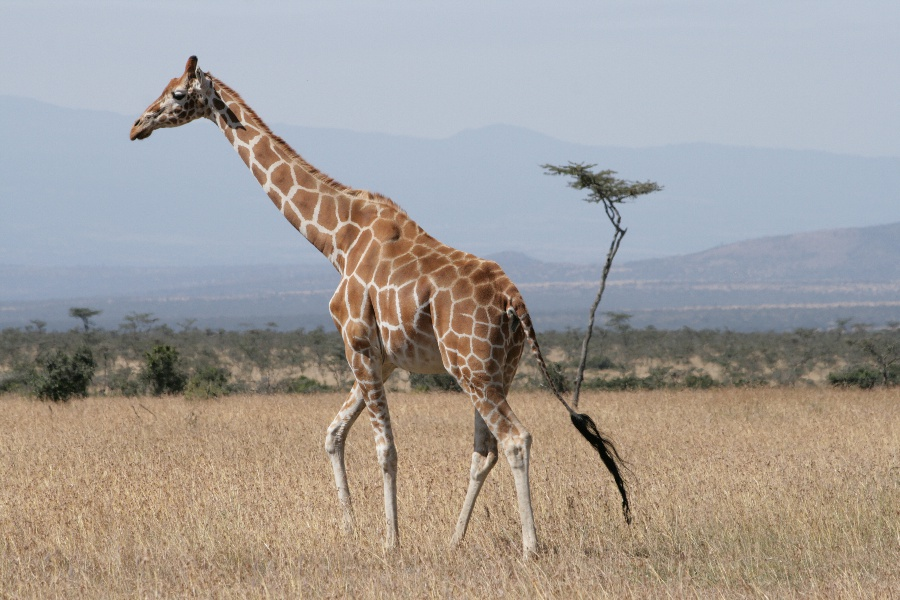giraffe: (123, 46, 569, 572)
